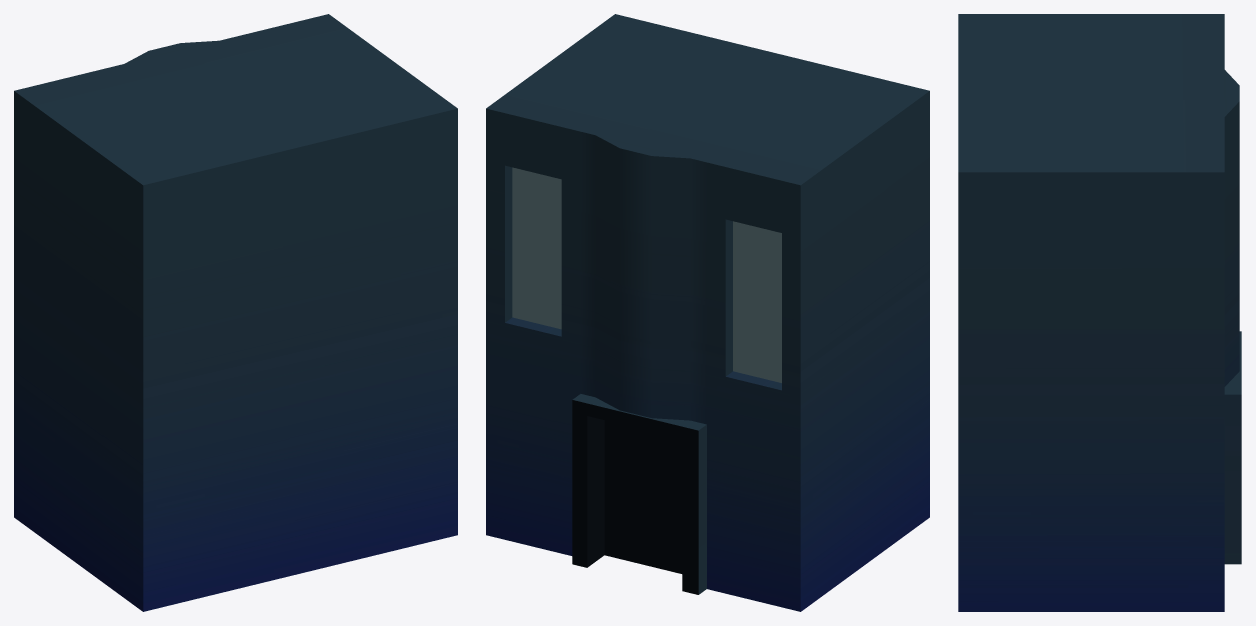
Rendered from Building1.fbx.
3 views of the same model, side by side, from view 1: azimuth 30°, elevation 25°; view 2: azimuth 150°, elevation 25°; view 3: azimuth 270°, elevation 25° (orthographic). The views are drawn at different scales.
Parts seen in each view (by area): view 1: Cube; view 2: Cube; view 3: Cube.
Boxes of the visible parts, x1,y1,x2,y2 form: Cube: (14, 14, 457, 611); Cube: (486, 14, 929, 611); Cube: (958, 14, 1241, 611).
Bounding box in the file's own units: 1999 × 2589 × 1512.
